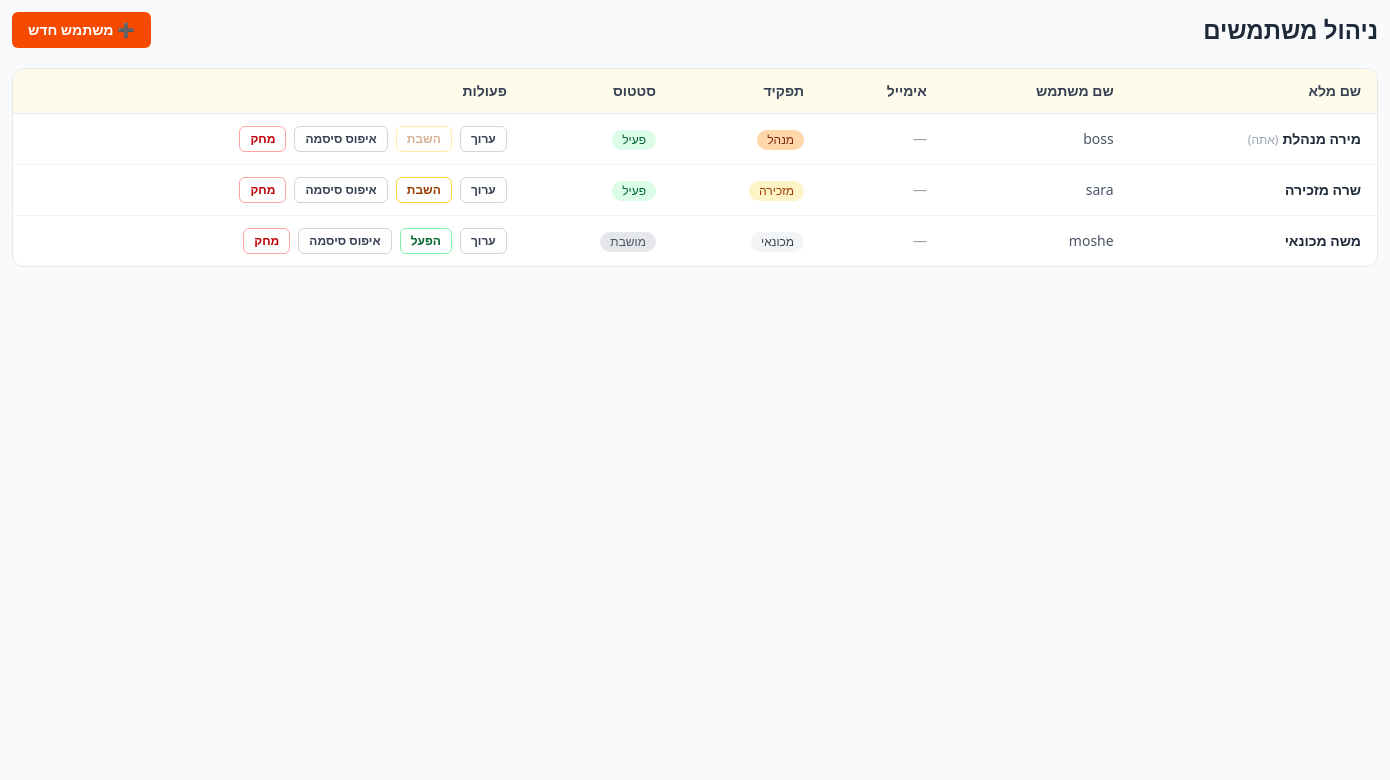
Scenario: UsersPage — create user › enforces the backend minimum lengths for username and password
Expected: the table named "טבלת משתמשים" is shown, x1=13 y1=69 x2=1377 y2=266
Click the button "➕ משתמש חדש": click(81, 30) x1=12 y1=12 x2=151 y2=48
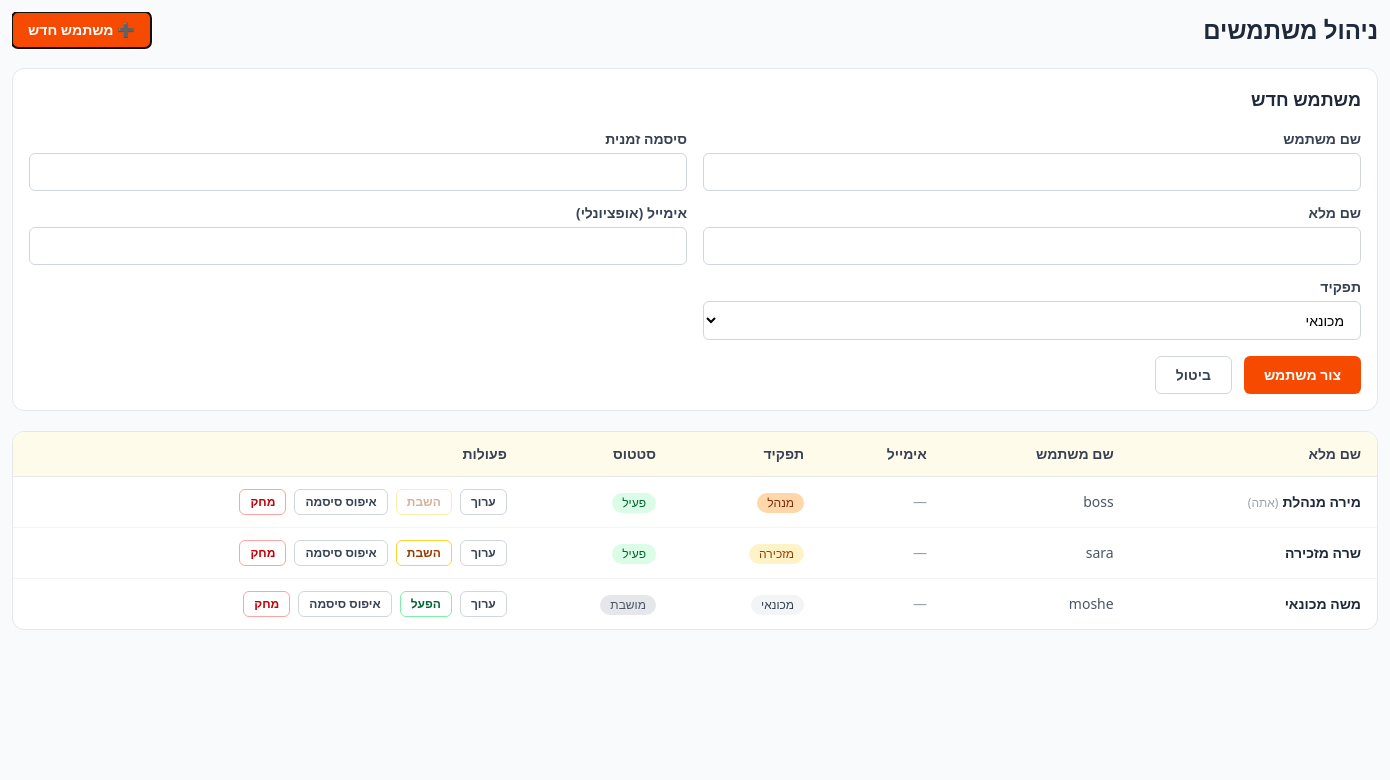
In the field labelled "שם משתמש": (1032, 172) x1=703 y1=153 x2=1361 y2=191, type "ab"
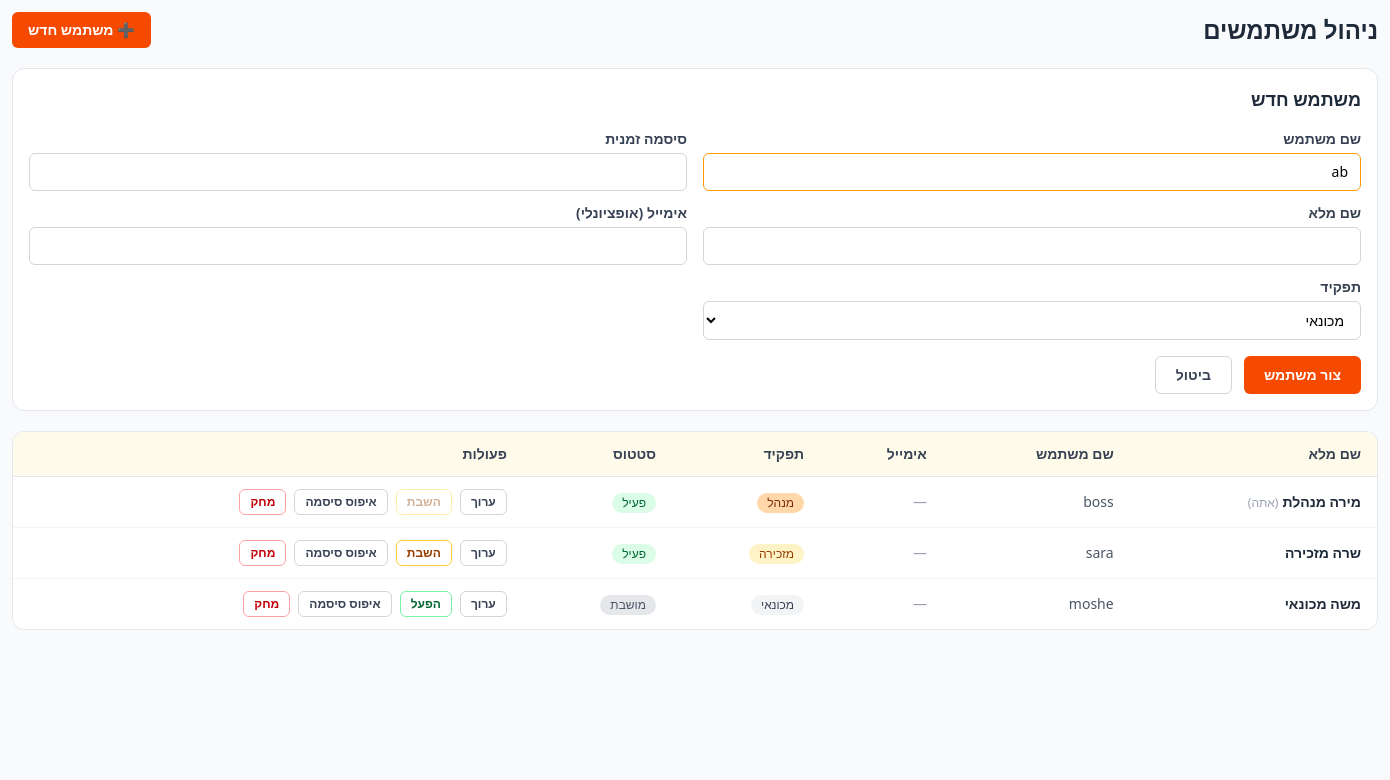
In the password field labelled "סיסמה זמנית": (358, 172) x1=29 y1=153 x2=687 y2=191, type "123"
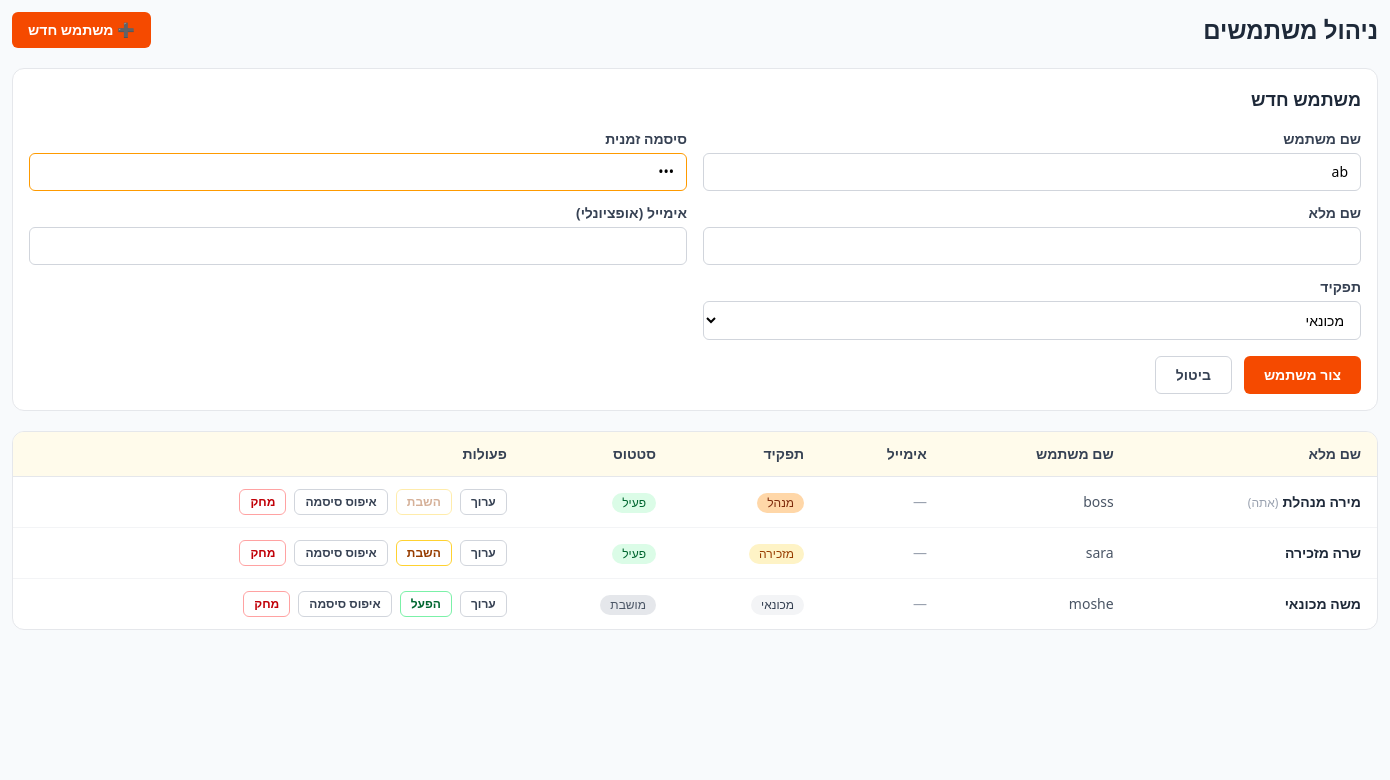
In the field labelled "שם מלא": (1032, 246) x1=703 y1=227 x2=1361 y2=265, type "בודק"
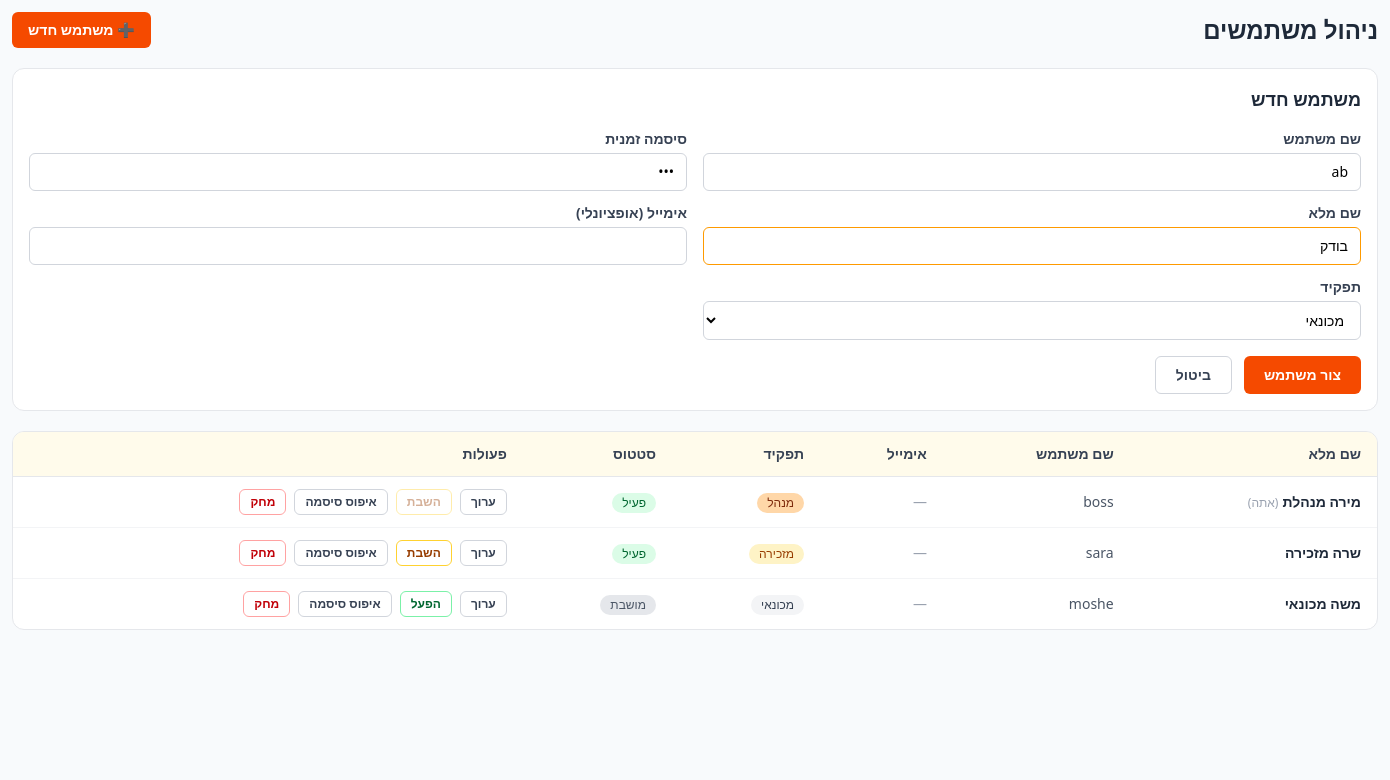
Click the button "צור משתמש": click(1302, 375) x1=1244 y1=356 x2=1361 y2=394
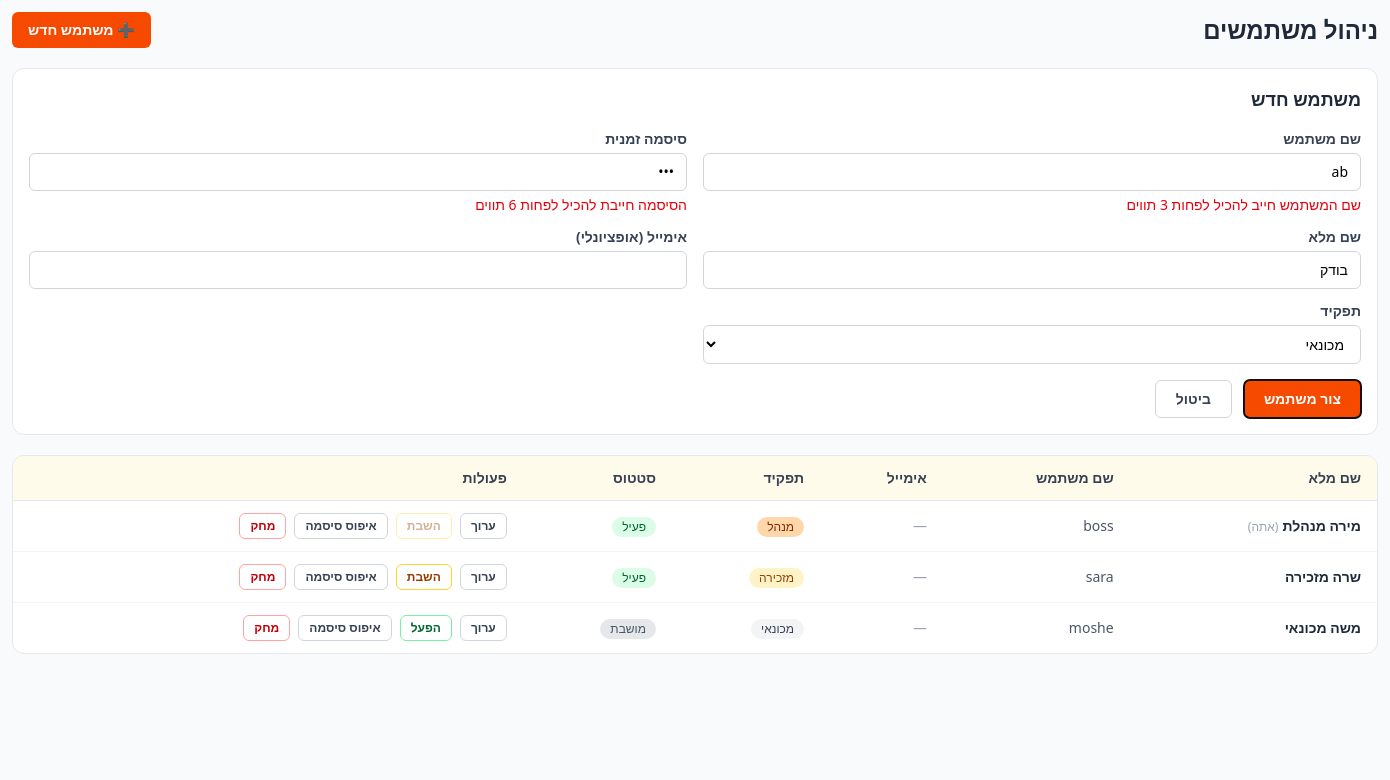
Now the text "שם המשתמש חייב להכיל לפחות 3 תווים" is shown, box x1=1126 y1=195 x2=1361 y2=214
Now the text "הסיסמה חייבת להכיל לפחות 6 תווים" is shown, box x1=475 y1=195 x2=687 y2=214
